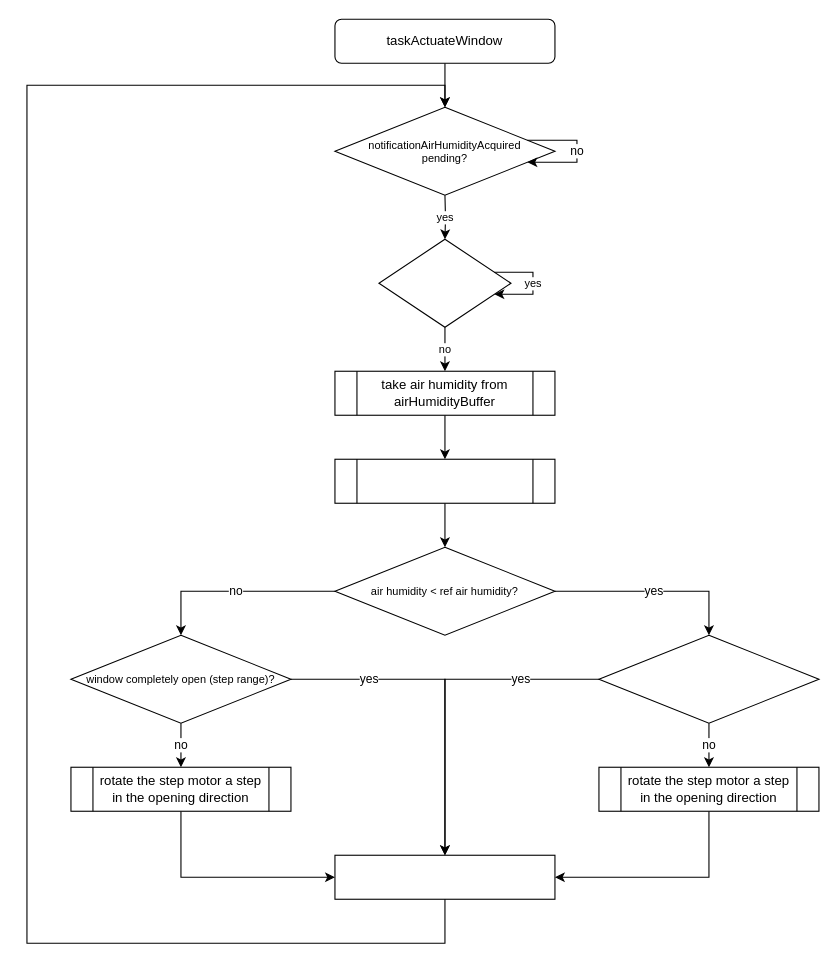
This 838x971 diagram has some shape labels left out. The box of each missing label's shape, as (x1, y1, x2, y2) in pixels:
check motor opening angle: (334, 458, 555, 503)
decrement semaphoreAirHumidity: (334, 854, 555, 899)
semaphoreAirHumidity locked?: (378, 238, 511, 327)
window completely close (step range)?: (598, 634, 819, 723)
